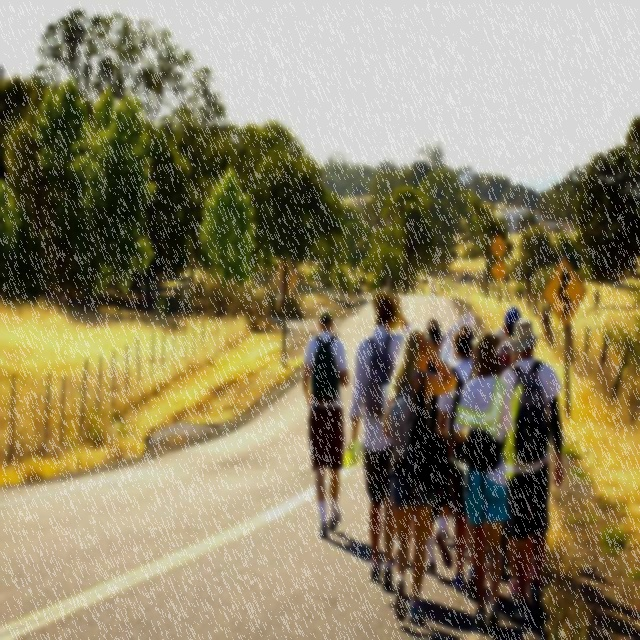pessoa: (314, 528, 640, 639), (378, 325, 458, 633), (346, 286, 412, 592), (500, 318, 564, 622), (452, 330, 515, 632), (298, 303, 352, 545), (434, 323, 478, 595), (424, 324, 454, 578), (392, 292, 477, 370), (495, 305, 522, 378), (471, 328, 488, 352), (492, 324, 507, 348)
